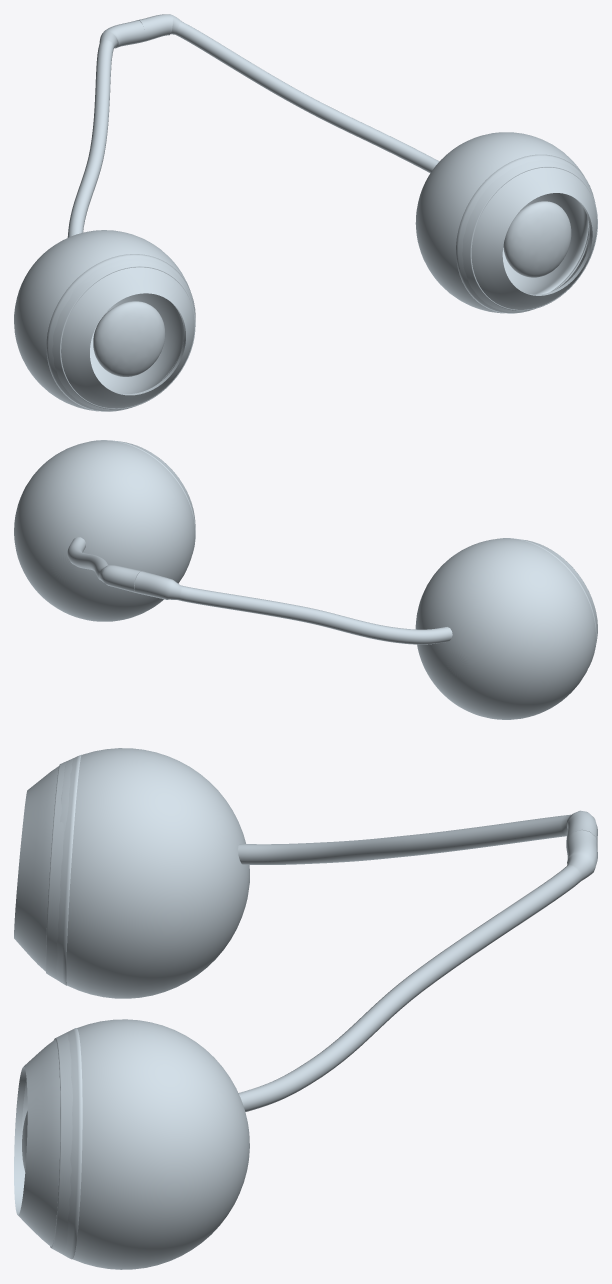
File: yeux.glb
The picture shows the model from 3 angles, top to bottom: view 1: azimuth 30°, elevation 25°; view 2: azimuth 150°, elevation 25°; view 3: azimuth 270°, elevation 25°; orthographic projection. The views are drawn at different scales.
Visible parts, largest first — view 1: yeux; view 2: yeux; view 3: yeux.
Boxes of the visible parts, x1=… form: yeux: x1=14, y1=14, x2=597, y2=411; yeux: x1=14, y1=440, x2=597, y2=719; yeux: x1=14, y1=748, x2=597, y2=1269.
Size of the model in its own units: 0.085 by 0.0308 by 0.0556.
